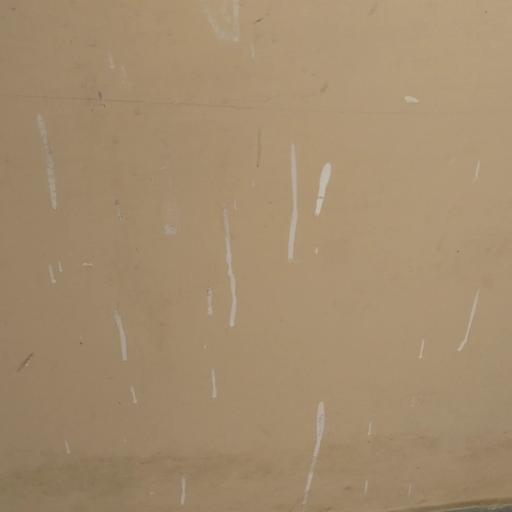stain: (23, 67, 512, 512)
